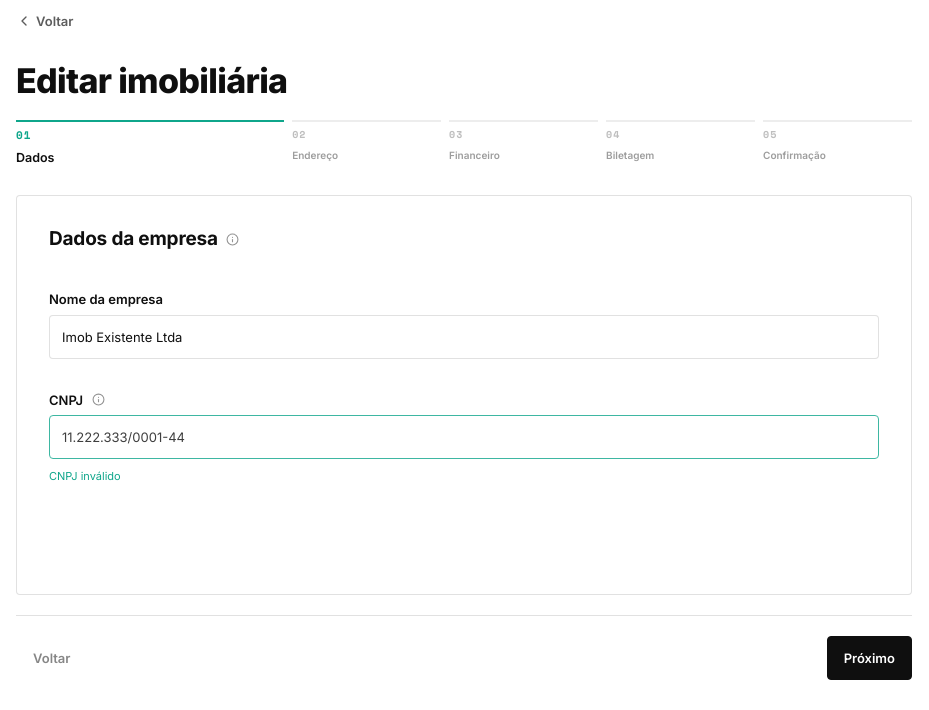
Test: Agency — edit mode (route /agencies/:id/edit) › pre-fills the address step from the agency payload
This screenshot has width=929, height=710.
Expected: the field labelled "Nome da empresa" holds "Imob Existente Ltda", 49,315 -> 879,359
Click the button "Próximo": click(869, 658) 827,636 -> 912,680
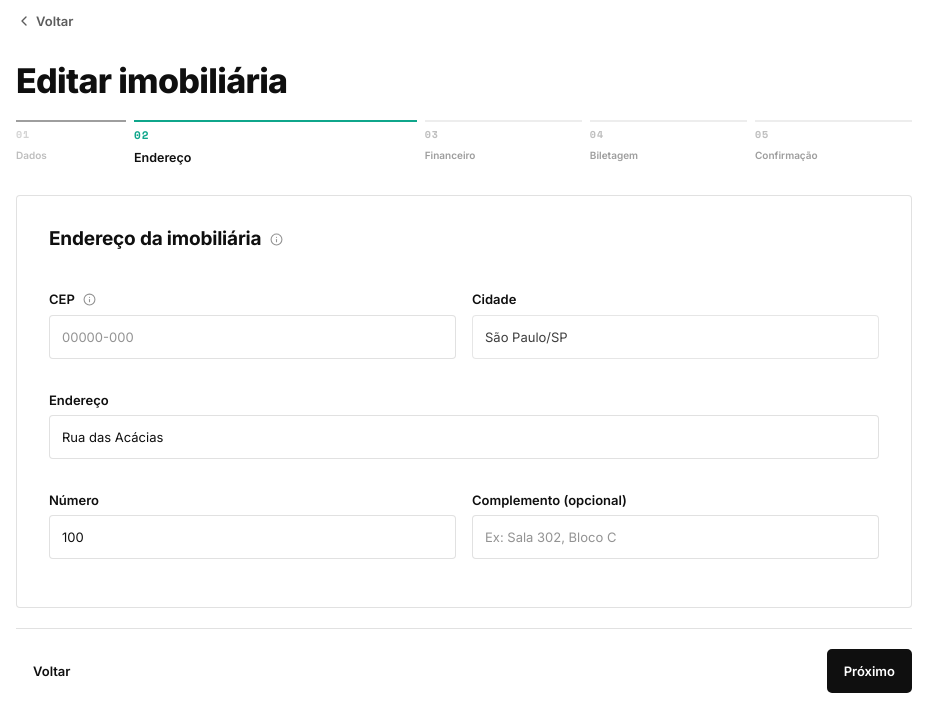
Expected: the field labelled "Endereço" holds "Rua das Acácias", 49,415 -> 879,459
Expected: the field labelled "Cidade" holds "São Paulo/SP", 472,315 -> 879,359
